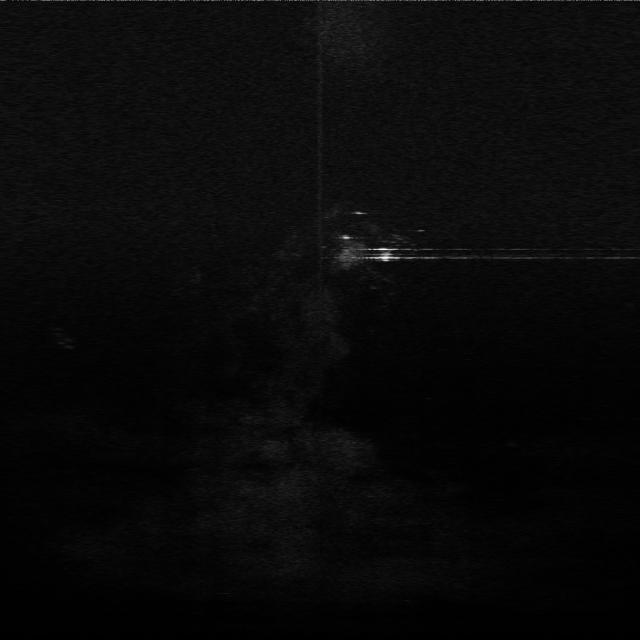rov: (376, 244, 396, 264)
